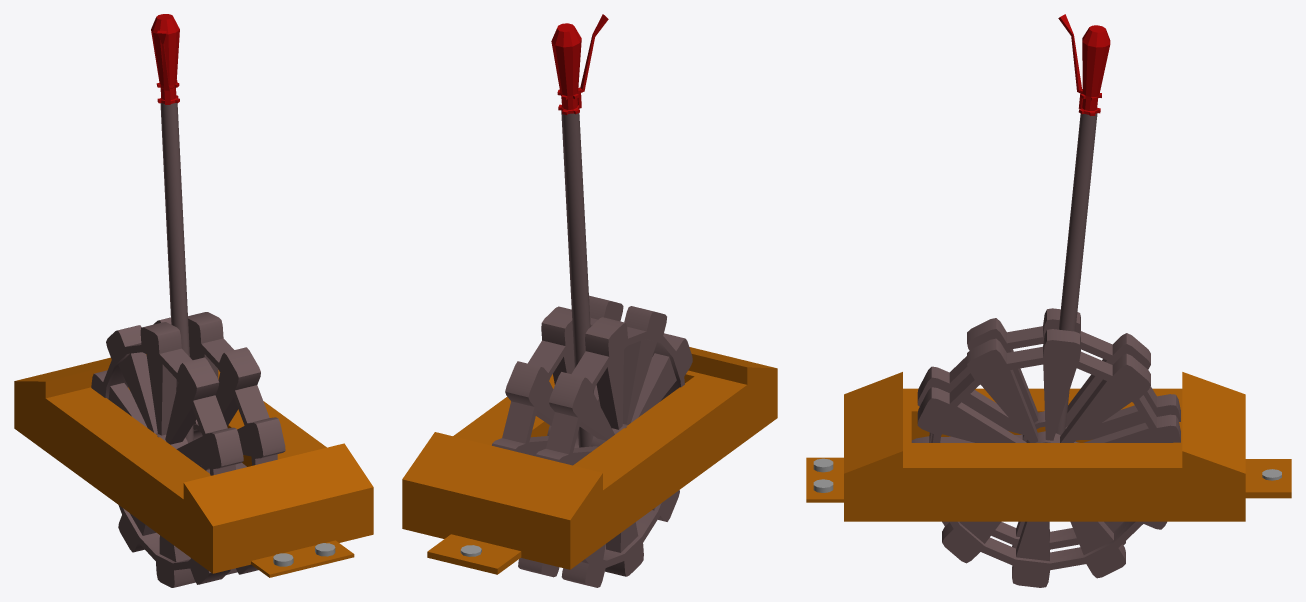
File: alavanca.glb
3 views of the same model, side by side, from view 1: azimuth 30°, elevation 25°; view 2: azimuth 150°, elevation 25°; view 3: azimuth 270°, elevation 25° (orthographic). The views are drawn at different scales.
Visible parts, largest first — view 1: Body, Cog1_Material #63_0, Object001_Material #64_0; view 2: Body, Cog1_Material #63_0, Object001_Material #64_0; view 3: Body, Cog1_Material #63_0, Object001_Material #64_0.
Boxes of the visible parts, left/top/right/bottom form: Body: left=14, top=354, right=373, bottom=577; Cog1_Material #63_0: left=91, top=103, right=285, bottom=587; Object001_Material #64_0: left=151, top=14, right=179, bottom=104; Body: left=402, top=347, right=777, bottom=574; Cog1_Material #63_0: left=492, top=111, right=692, bottom=587; Object001_Material #64_0: left=551, top=14, right=608, bottom=115; Body: left=806, top=372, right=1291, bottom=521; Cog1_Material #63_0: left=911, top=113, right=1180, bottom=587; Object001_Material #64_0: left=1058, top=14, right=1110, bottom=115.
Size of the model in its own units: 0.02 by 0.0643 by 0.0517.
